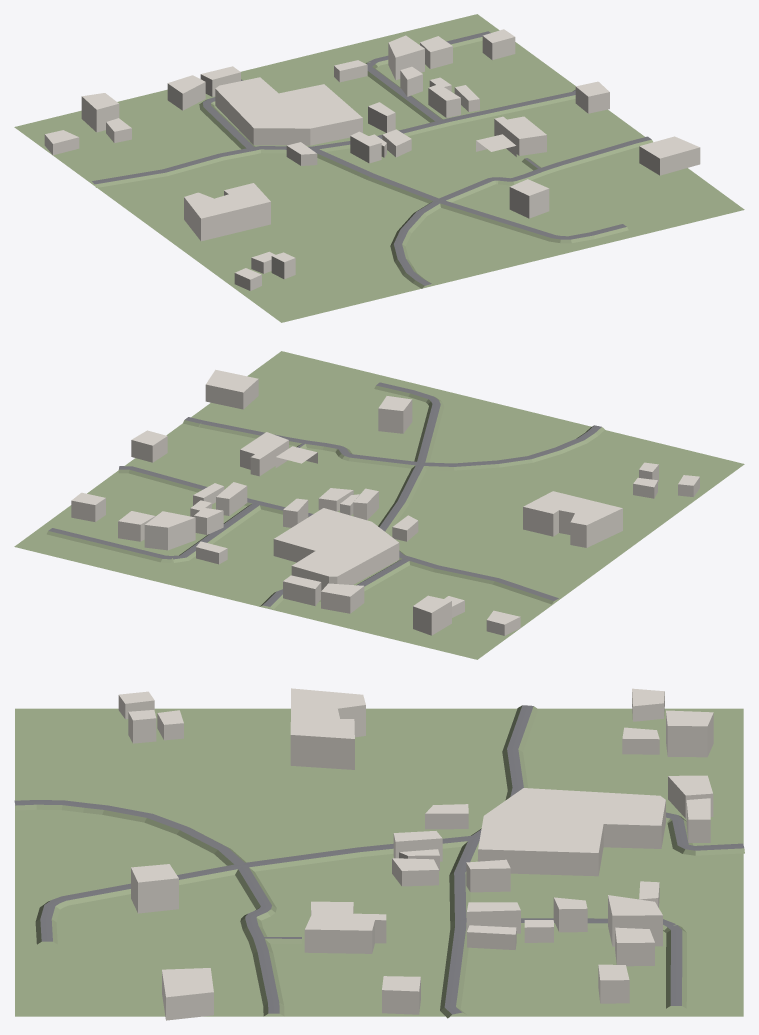
Rendered from dhamrai_chunk_x-1_z-2.glb.
3 renders of one model, top to bottom at view 1: azimuth 30°, elevation 25°; view 2: azimuth 150°, elevation 25°; view 3: azimuth 270°, elevation 25°, orthographic. The views are drawn at different scales.
Visible parts, largest first — view 1: terrain, buildings, roads, embankments; view 2: terrain, buildings, roads, embankments; view 3: terrain, buildings, roads, embankments.
Boxes of the visible parts, <box> form: terrain: <box>14,14,744,322</box>; buildings: <box>44,29,700,290</box>; roads: <box>92,31,651,285</box>; embankments: <box>95,37,652,288</box>; terrain: <box>14,351,744,659</box>; buildings: <box>71,369,699,635</box>; roads: <box>48,382,601,606</box>; embankments: <box>47,385,604,609</box>; terrain: <box>15,708,743,1016</box>; buildings: <box>118,688,713,1020</box>; roads: <box>14,705,744,1014</box>; embankments: <box>15,705,744,1018</box>.
Bounding box in the file's own units: 263 × 13.23 × 257.
